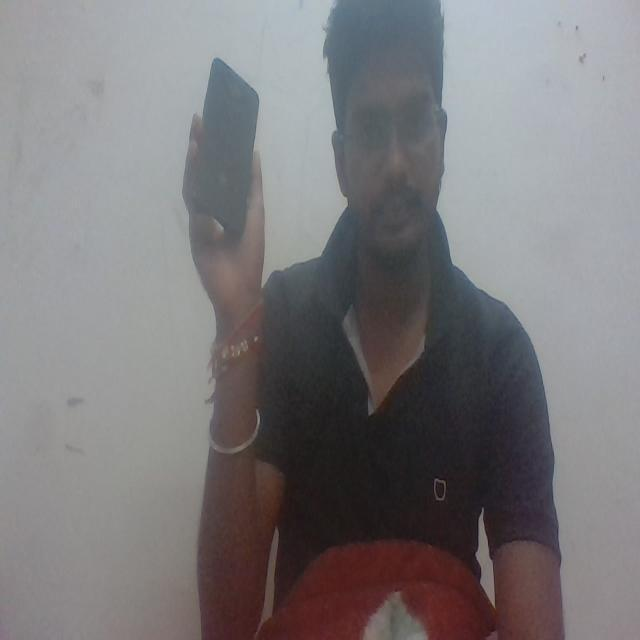Phone: (187, 55, 264, 241)
